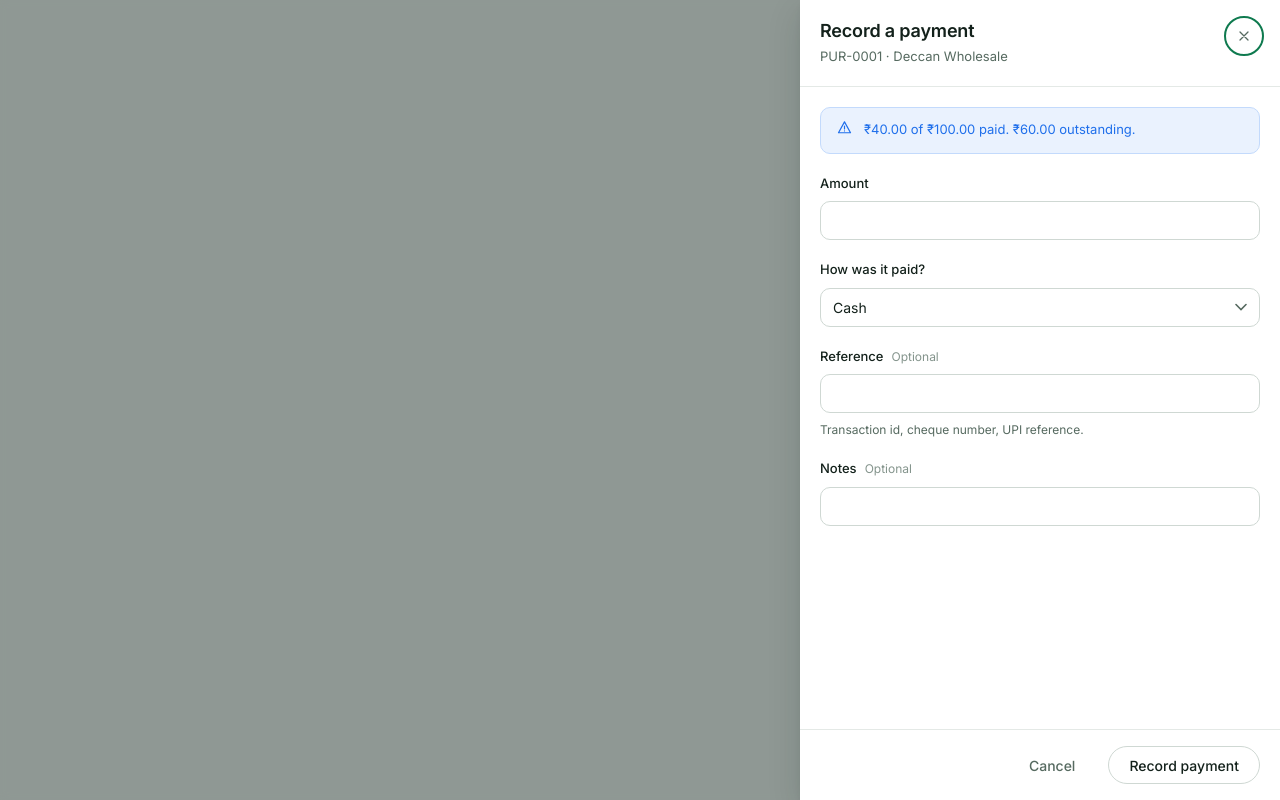
Test case: PaymentDrawer › keeps everything typed when the server refuses
Type "15" into the field labelled "Amount" at coordinates (1040, 220), box [820, 201, 1260, 240]
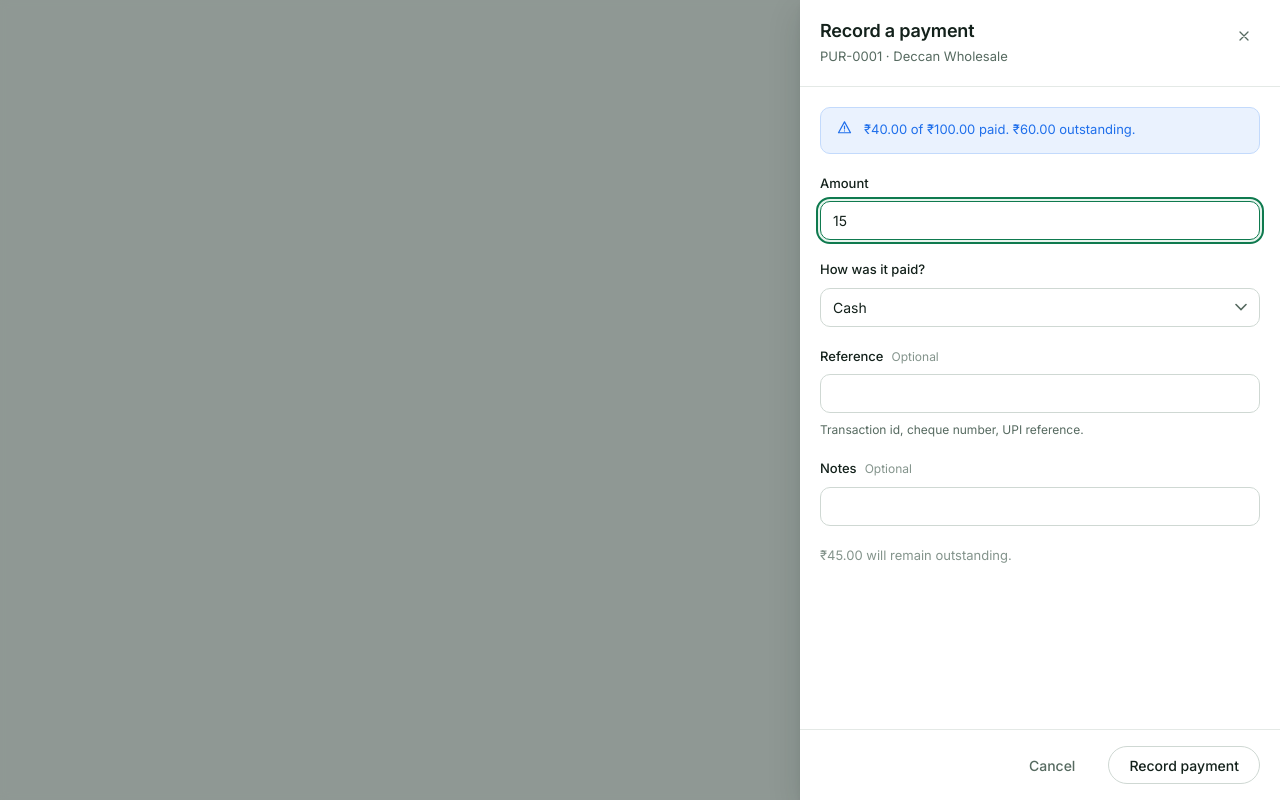
Type "Paid at the counter" into the field labelled "Notes Optional" at coordinates (1040, 506), box [820, 486, 1260, 526]
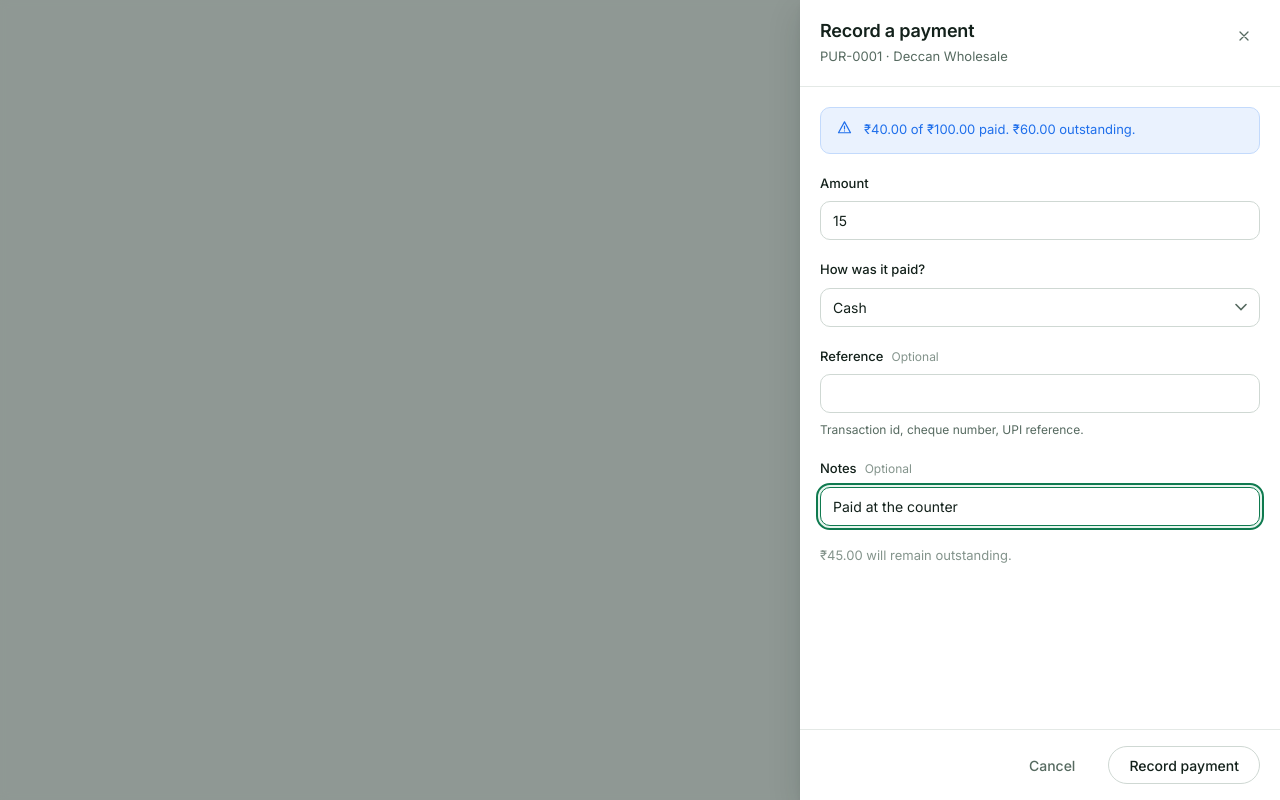
Click the button "Record payment" at coordinates (1184, 765), box [1108, 746, 1260, 784]
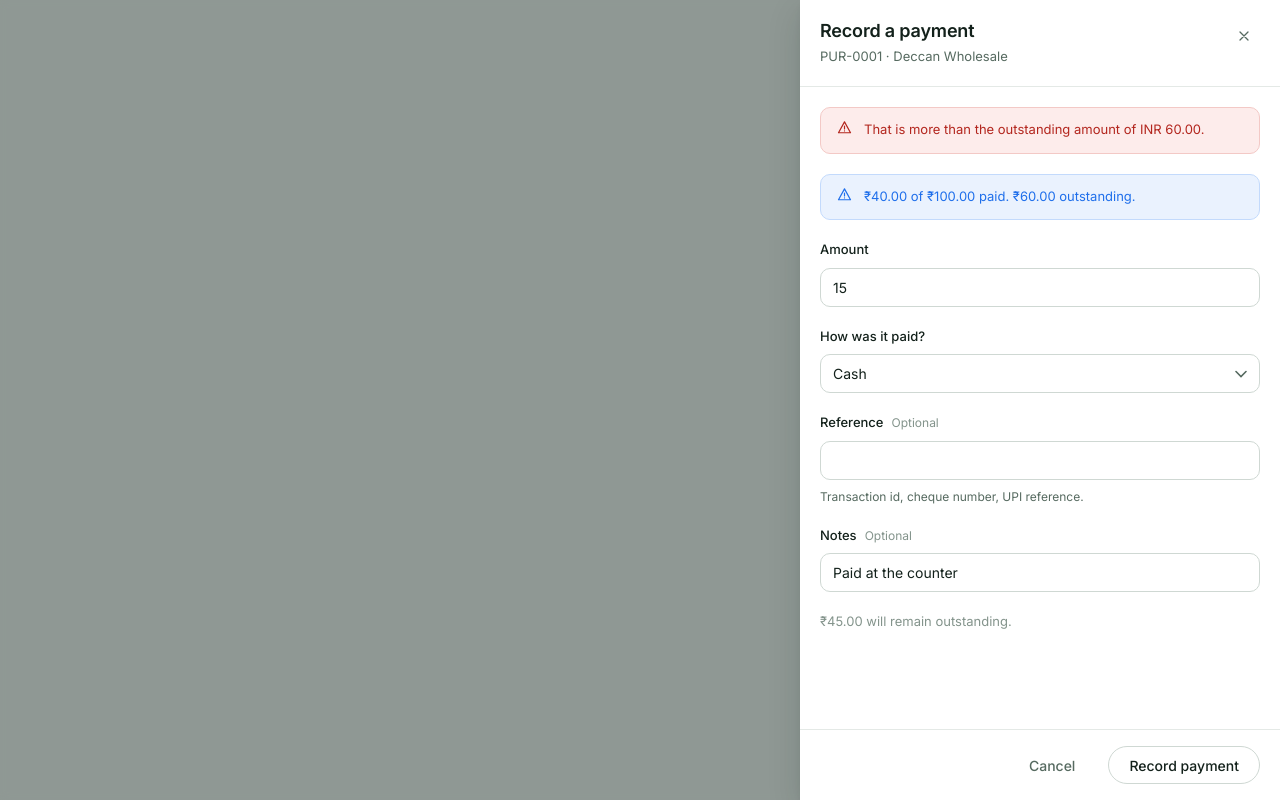
Expected: the text "That is more than the outstanding amount of INR 60.00." is shown, [864, 120, 1204, 140]
